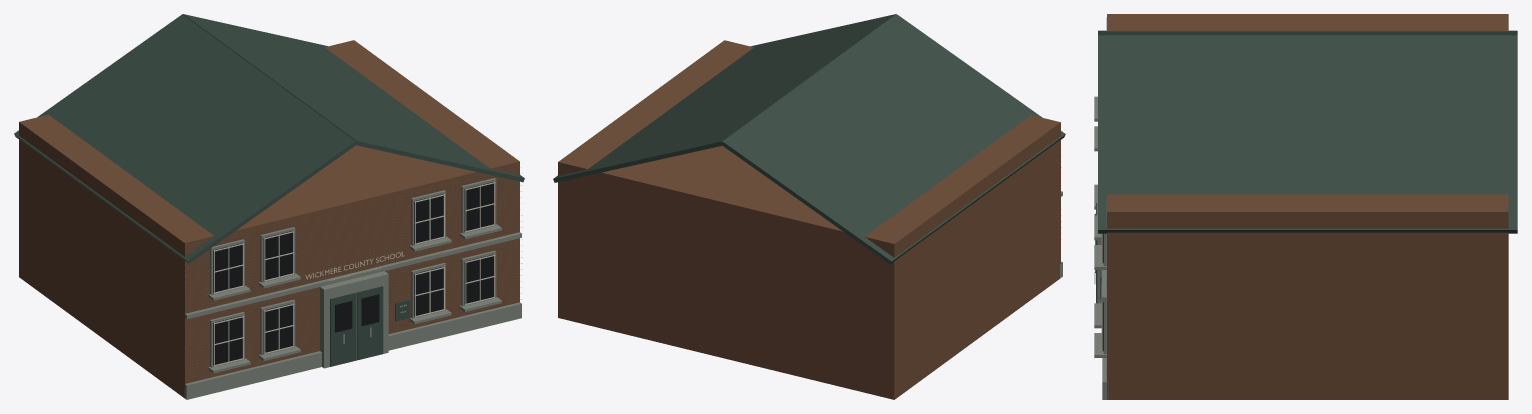
File: county-school.glb
The picture shows the model from 3 angles, left to right: view 1: azimuth 30°, elevation 25°; view 2: azimuth 150°, elevation 25°; view 3: azimuth 270°, elevation 25°; orthographic projection. The views are drawn at different scales.
Parts seen in each view (by area): view 1: School brickwork, Slate roof, Slate roof.001, Stone plinth, Storey course, Entrance surround, School door.001, School door, Dark school window.003, Dark school window.007, Dark school window, Dark school window.006 (+11 smaller); view 2: School brickwork, Slate roof, Slate roof.001; view 3: School brickwork, Slate roof.001, Slate roof.
Boxes of the visible parts, x1=… form: School brickwork: x1=19, y1=40, x2=519, y2=398; Slate roof: x1=14, y1=14, x2=357, y2=263; Slate roof.001: x1=183, y1=14, x2=524, y2=182; Stone plinth: x1=184, y1=302, x2=521, y2=399; Storey course: x1=185, y1=232, x2=521, y2=319; Entrance surround: x1=320, y1=271, x2=388, y2=368; School door.001: x1=357, y1=286, x2=383, y2=360; School door: x1=330, y1=292, x2=356, y2=366; Dark school window.003: x1=464, y1=254, x2=493, y2=304; Dark school window.007: x1=464, y1=182, x2=493, y2=231; Dark school window: x1=213, y1=316, x2=242, y2=365; Dark school window.006: x1=414, y1=194, x2=443, y2=243; School brickwork: x1=558, y1=40, x2=1060, y2=399; Slate roof: x1=721, y1=14, x2=1065, y2=264; Slate roof.001: x1=553, y1=14, x2=896, y2=182; School brickwork: x1=1107, y1=14, x2=1508, y2=399; Slate roof.001: x1=1098, y1=35, x2=1517, y2=233; Slate roof: x1=1098, y1=30, x2=1517, y2=35.
Size of the model in its own units: 14.16 by 8.76 by 12.66.
